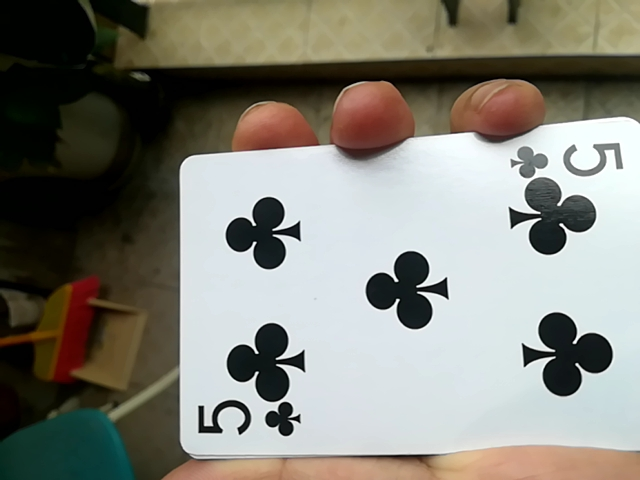mh 5: (168, 128, 633, 459)
